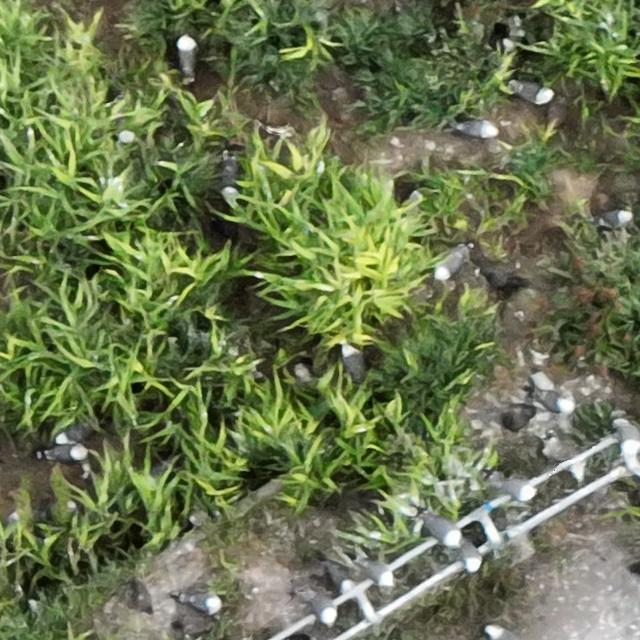umineko: (552, 442, 588, 480), (53, 417, 100, 443), (356, 560, 395, 588), (424, 515, 462, 543), (433, 248, 465, 279), (327, 560, 355, 594), (309, 591, 335, 625), (510, 82, 550, 104), (538, 392, 576, 415), (616, 416, 639, 454), (43, 442, 85, 462), (220, 153, 237, 202), (177, 35, 197, 76), (182, 591, 220, 612), (118, 104, 138, 143), (498, 479, 535, 500), (455, 120, 496, 138), (462, 540, 482, 574), (343, 346, 361, 381), (597, 210, 630, 228), (489, 626, 519, 639)
